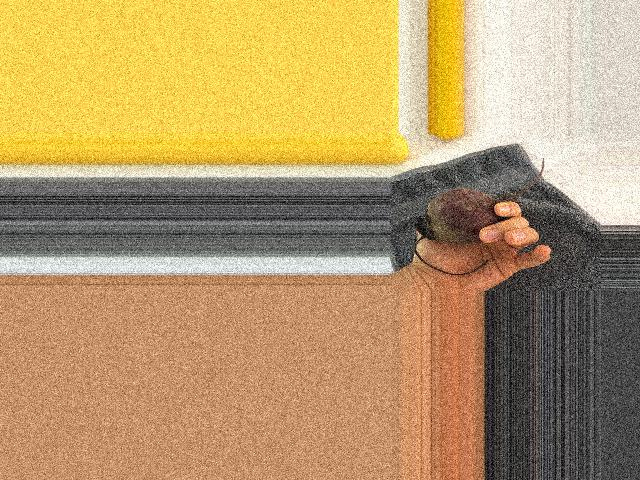beet: (415, 158, 544, 275)
